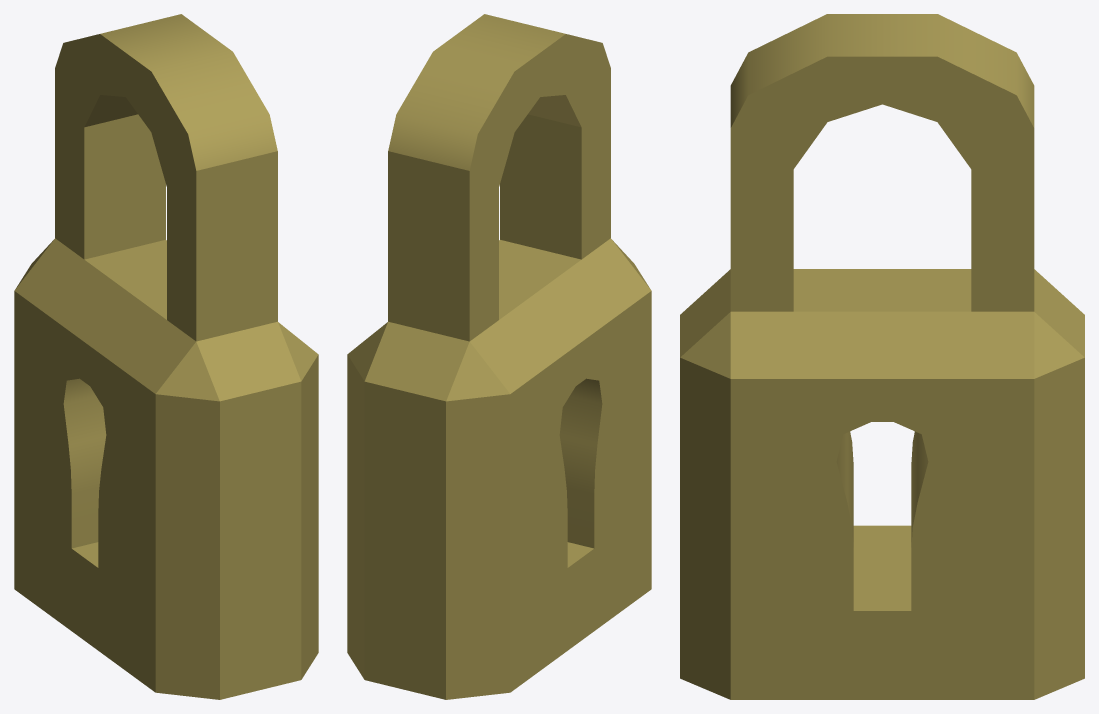
The model's file is Golden_Padlock.fbx.
3 renders of one model, left to right at view 1: azimuth 30°, elevation 25°; view 2: azimuth 150°, elevation 25°; view 3: azimuth 270°, elevation 25°, orthographic. The views are drawn at different scales.
Visible parts, largest first — view 1: Padlock; view 2: Padlock; view 3: Padlock.
Boxes of the visible parts, bbox=[...] form: Padlock: bbox=[14, 14, 318, 699]; Padlock: bbox=[347, 14, 651, 699]; Padlock: bbox=[680, 14, 1084, 699].
Bounding box in the file's own units: 20 × 67.8 × 40.
